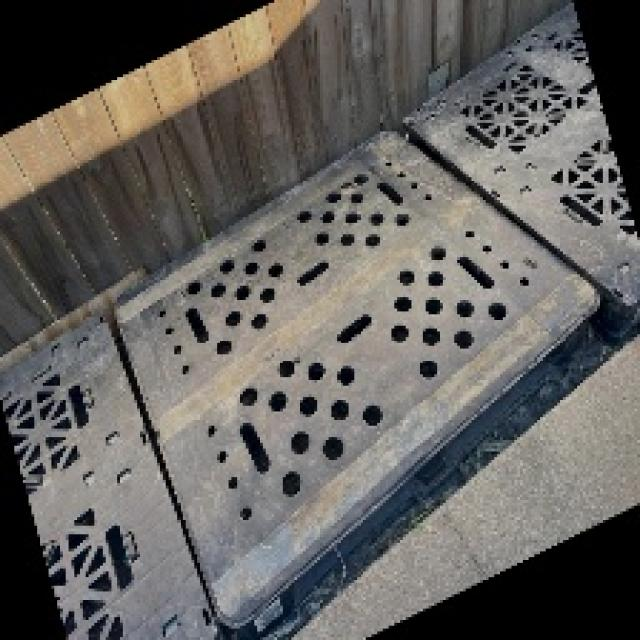igps: (105, 124, 607, 640), (391, 0, 640, 357), (0, 299, 241, 640)
